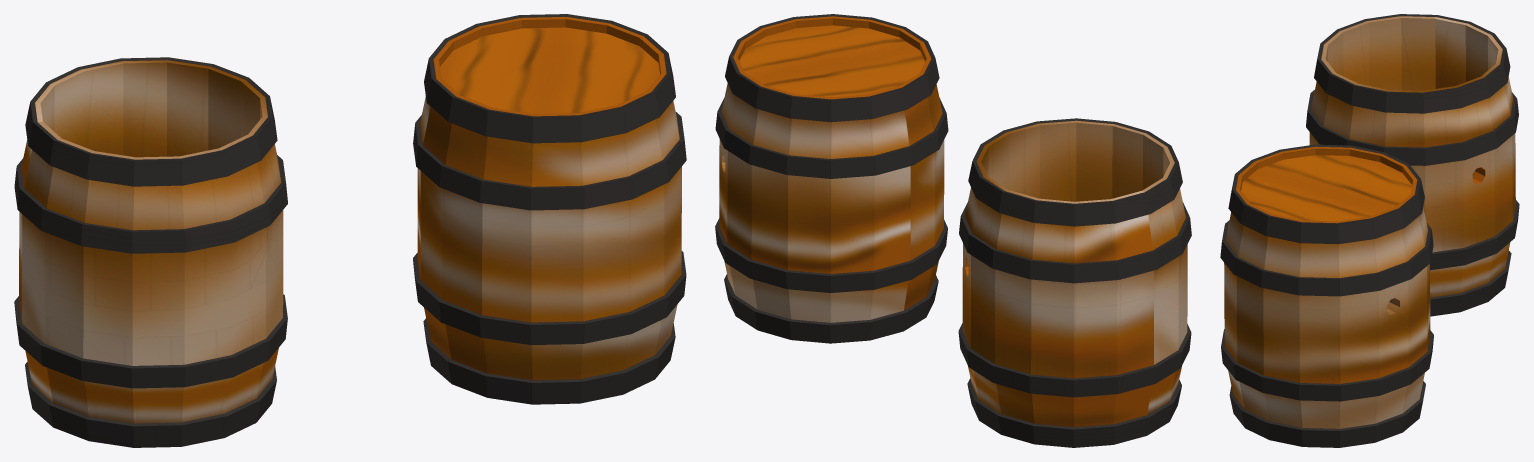
The model's file is Barrels.glb.
3 views of the same model, side by side, from view 1: azimuth 30°, elevation 25°; view 2: azimuth 150°, elevation 25°; view 3: azimuth 270°, elevation 25° (orthographic). The views are drawn at different scales.
Visible parts, largest first — view 1: Prop_Barrel1, Prop_Barrel_empty; view 2: Prop_Barrel1, Prop_Barrel_empty; view 3: Prop_Barrel1, Prop_Barrel_empty.
Boxes of the visible parts, box(x1,y1,x2,y2) form: Prop_Barrel1: box(413, 14, 686, 404); Prop_Barrel_empty: box(14, 57, 287, 447); Prop_Barrel1: box(715, 14, 948, 343); Prop_Barrel_empty: box(958, 118, 1191, 447); Prop_Barrel1: box(1220, 144, 1433, 447); Prop_Barrel_empty: box(1306, 14, 1519, 316).
Size of the model in its own units: 1.92 by 0.912 by 1.1.
1 material, 1 textured.
